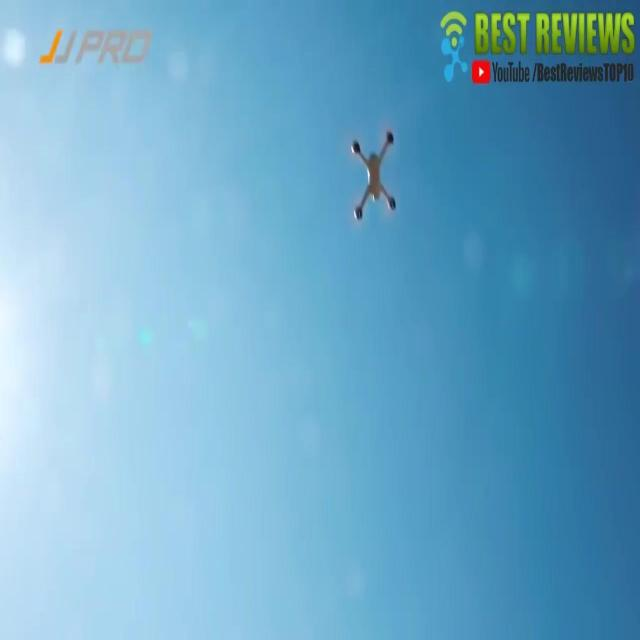drone: (349, 128, 398, 223)
